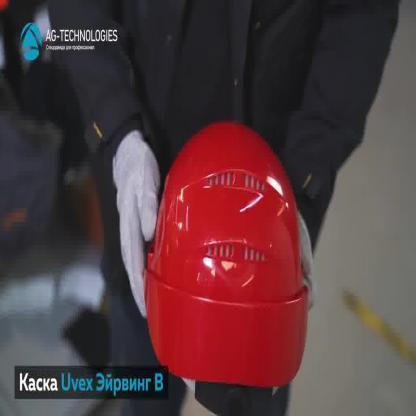gloves: (113, 129, 161, 320), (292, 202, 319, 318)
helmet: (142, 118, 309, 390)
